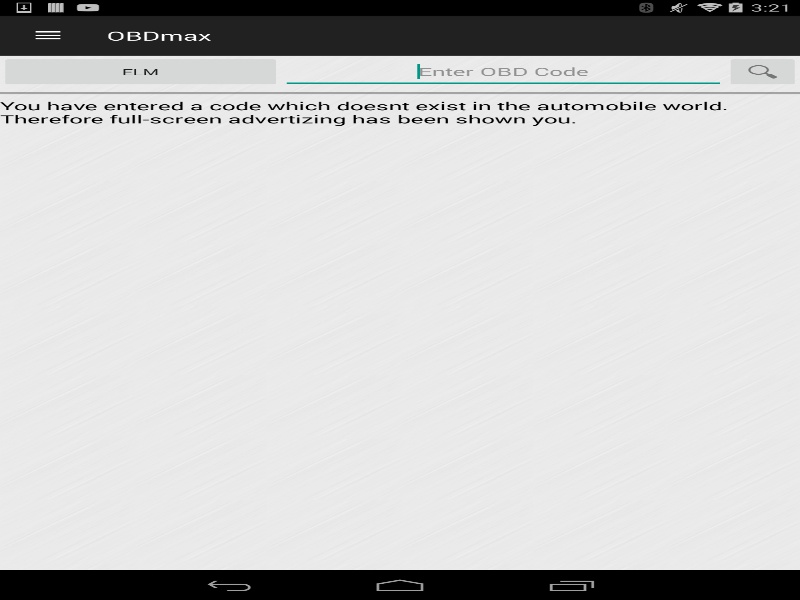Button: (0, 55, 281, 88), (10, 15, 85, 55), (725, 55, 800, 88)
Input: (281, 55, 725, 88)
